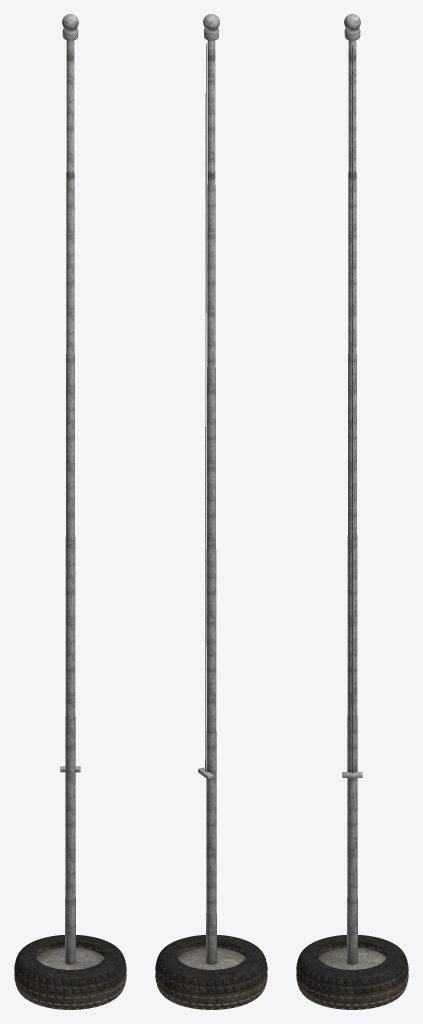
The model's file is SM_FlagPole_Objective_Body.fbx.
3 renders of one model, left to right at view 1: azimuth 90°, elevation 25°; view 2: azimuth 210°, elevation 25°; view 3: azimuth 270°, elevation 25°, orthographic.
Parts seen in each view (by area): view 1: FlagPole_Objective_Body; view 2: FlagPole_Objective_Body; view 3: FlagPole_Objective_Body.
Part boxes in pixels (box(x1,y1,x2,y2)): FlagPole_Objective_Body: box(14, 14, 126, 1009); FlagPole_Objective_Body: box(155, 14, 267, 1009); FlagPole_Objective_Body: box(296, 14, 408, 1009).
Size of the model in its own units: 0.6589 by 0.6589 by 6.31.
Materials: 1 (1 with a texture image).
